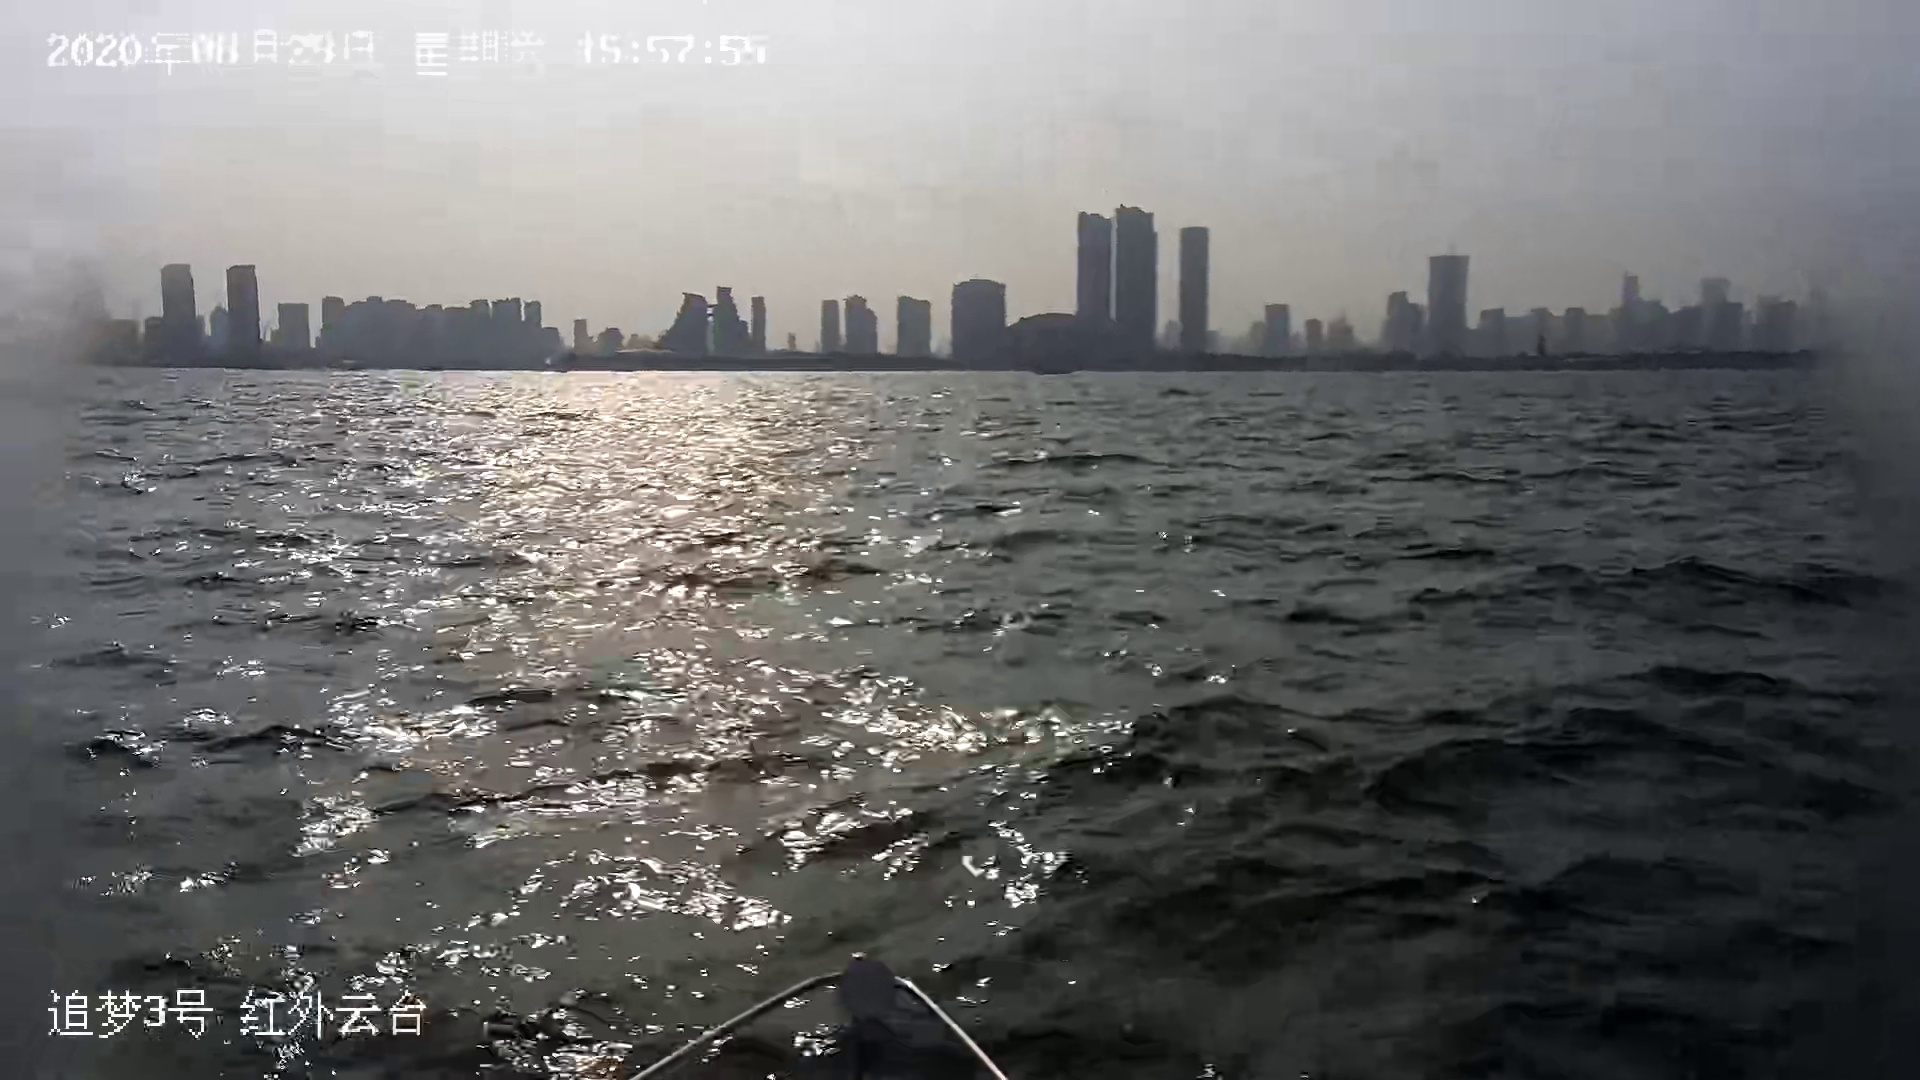coast: (1, 189, 1919, 373)
this: (603, 931, 1014, 1079)
